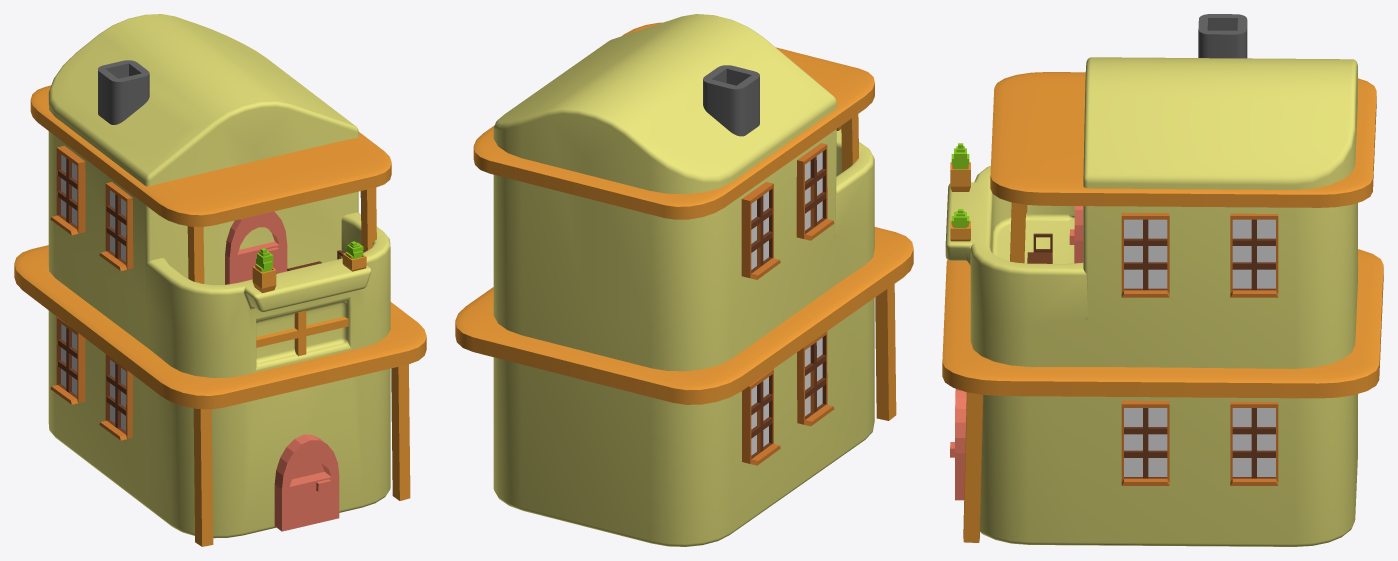
Rendered from MONO_COL_KUOCUK_EV.fbx.
3 views of the same model, side by side, from view 1: azimuth 30°, elevation 25°; view 2: azimuth 150°, elevation 25°; view 3: azimuth 270°, elevation 25° (orthographic). The views are drawn at different scales.
Visible parts, largest first — view 1: Cube, Cube.012, Cube.002, Cube.001, Cube.007, Cube.003, Cube.015, Cube.016, Cube.017, Cube.020, Cube.008, Cube.021 (+1 smaller); view 2: Cube, Cube.012, Cube.002, Cube.003, Cube.015, Cube.016, Cube.017, Cube.020; view 3: Cube, Cube.012, Cube.002, Cube.013, Cube.010, Cube.011, Cube.014, Cube.003, Cube.001, Cube.021, Cube.007, Cube.062.
Boxes of the visible parts, left/top/right/bottom form: Cube: left=48, top=14, right=390, bottom=538; Cube.012: left=14, top=245, right=426, bottom=546; Cube.002: left=30, top=85, right=391, bottom=283; Cube.001: left=274, top=434, right=339, bottom=531; Cube.007: left=225, top=211, right=287, bottom=284; Cube.003: left=98, top=60, right=149, bottom=124; Cube.015: left=50, top=145, right=85, bottom=235; Cube.016: left=99, top=182, right=133, bottom=270; Cube.017: left=50, top=317, right=85, bottom=404; Cube.020: left=99, top=354, right=132, bottom=440; Cube.008: left=256, top=310, right=348, bottom=356; Cube.021: left=252, top=248, right=276, bottom=293; Cube: left=493, top=14, right=874, bottom=546; Cube.012: left=455, top=227, right=913, bottom=420; Cube.002: left=473, top=22, right=874, bottom=219; Cube.003: left=703, top=65, right=759, bottom=136; Cube.015: left=741, top=182, right=780, bottom=279; Cube.016: left=796, top=143, right=834, bottom=240; Cube.017: left=742, top=369, right=780, bottom=465; Cube.020: left=797, top=331, right=834, bottom=426; Cube: left=945, top=57, right=1357, bottom=546; Cube.012: left=942, top=249, right=1383, bottom=542; Cube.002: left=990, top=72, right=1376, bottom=263; Cube.013: left=1121, top=400, right=1169, bottom=485; Cube.010: left=1121, top=212, right=1169, bottom=297; Cube.011: left=1230, top=213, right=1278, bottom=297; Cube.014: left=1230, top=401, right=1278, bottom=485; Cube.003: left=1198, top=14, right=1247, bottom=58; Cube.001: left=950, top=389, right=966, bottom=500; Cube.021: left=950, top=143, right=970, bottom=191; Cube.007: left=1069, top=206, right=1083, bottom=263; Cube.062: left=950, top=209, right=970, bottom=241.
Size of the model in its own units: 41.14 by 58.58 by 54.67.
